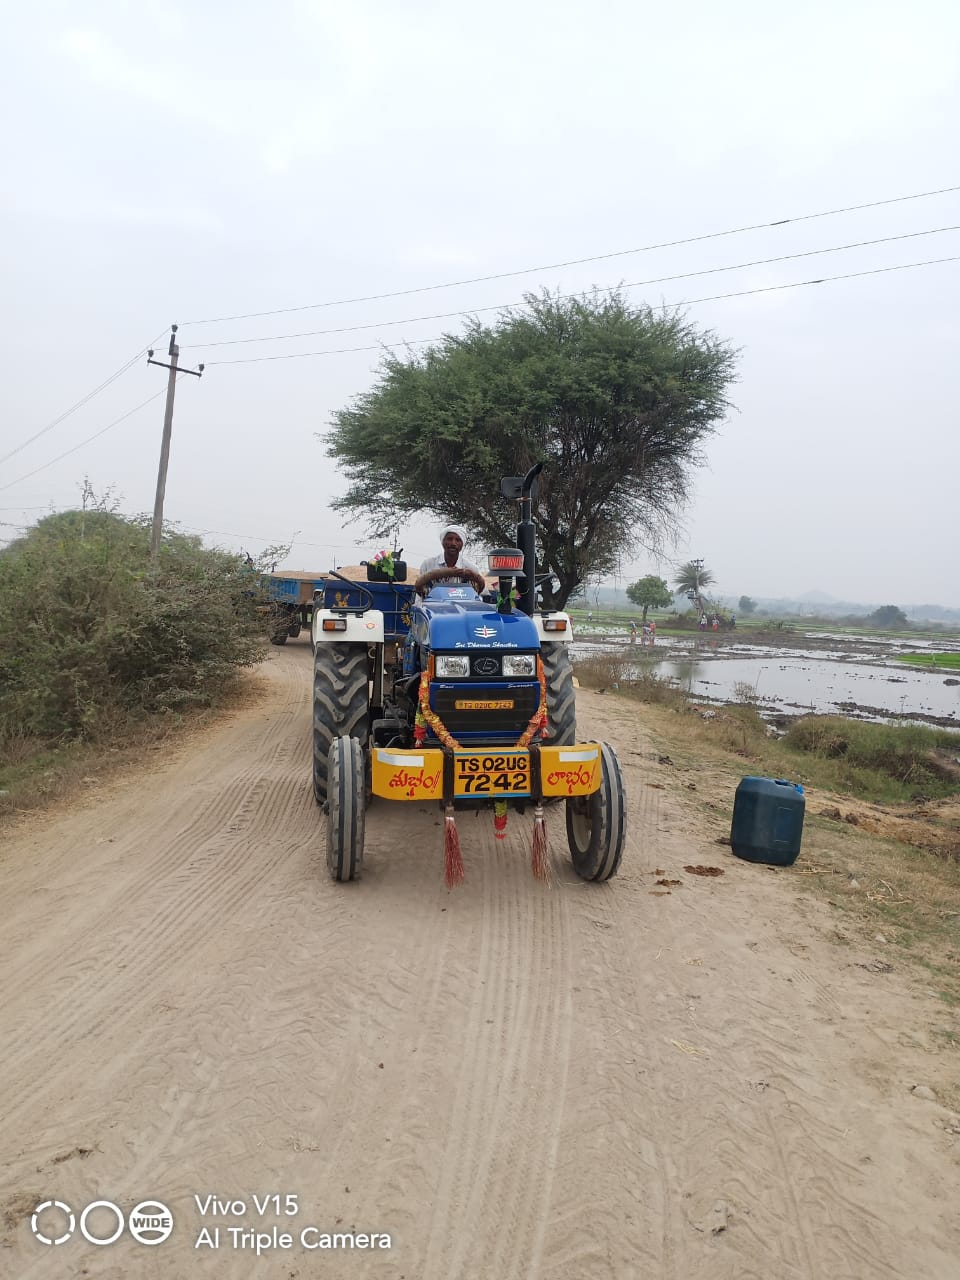num_plate: (452, 752, 536, 794)
